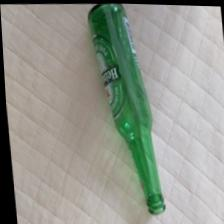glass: (89, 4, 164, 213)
